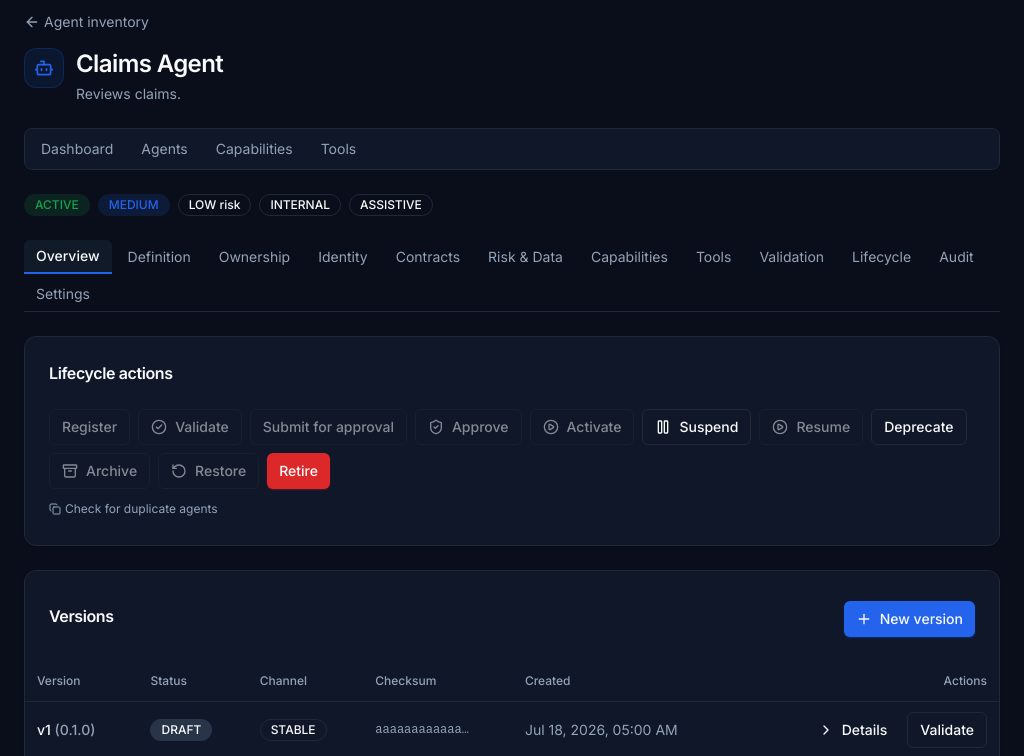
Test case: AgentDetailPage — Versions (Phase 5.2 Part 1) › compares two versions and shows the scalar difference
Click the button "Details" at (852, 730), box left=806, top=712, right=899, bottom=748
(page scrolled)
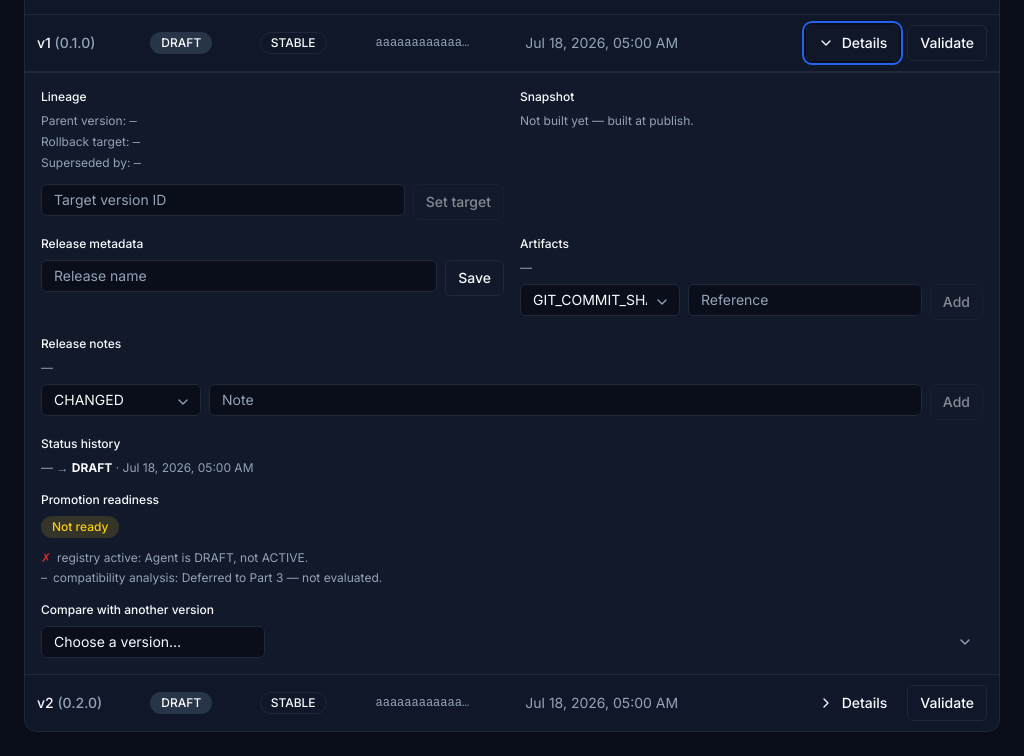
Select "v2 (0.2.0)" in the dropdown named "Compare with" at (153, 642), box left=41, top=626, right=265, bottom=658
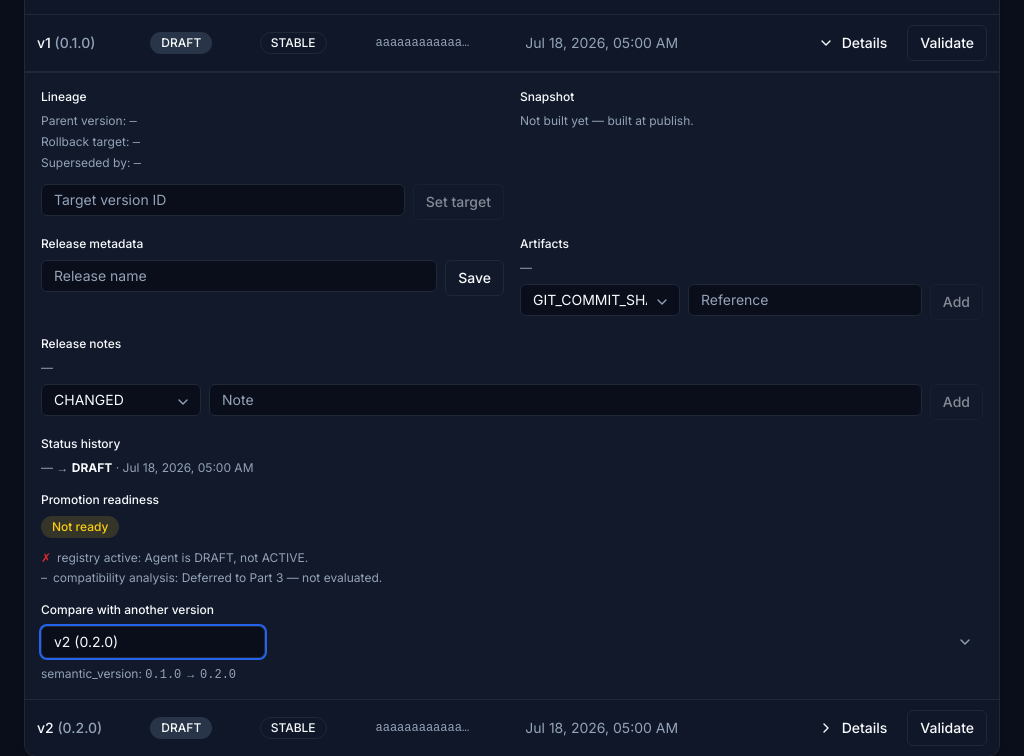
Check: the text "semantic_version: 0.1.0 → 0.2.0" is shown, box left=41, top=666, right=236, bottom=682
